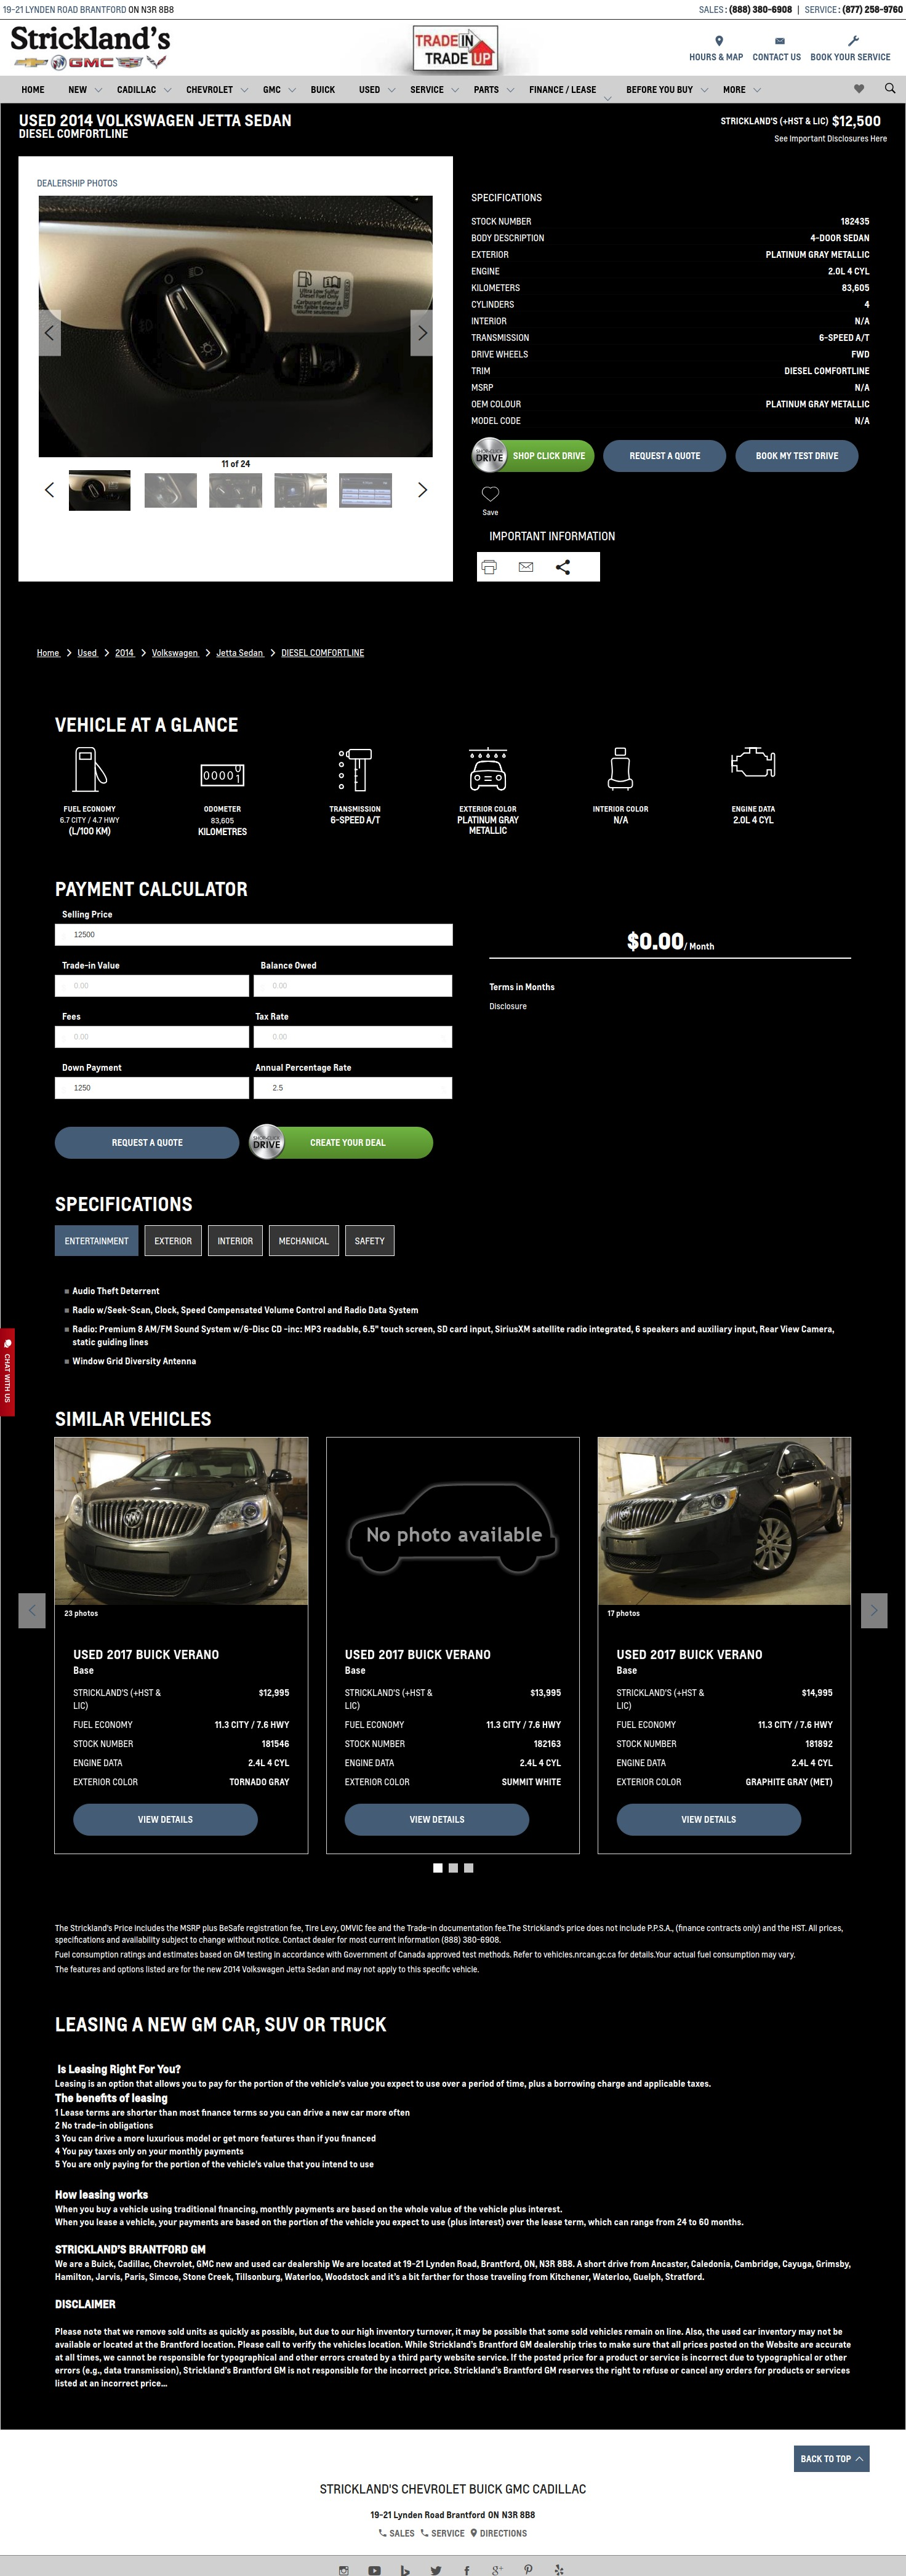car: (418, 483, 429, 498)
